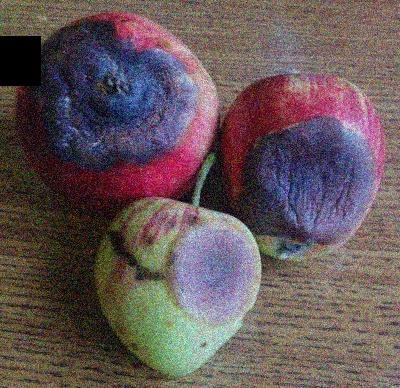rotten apple: (14, 9, 226, 216), (92, 195, 272, 379), (223, 69, 388, 266)
